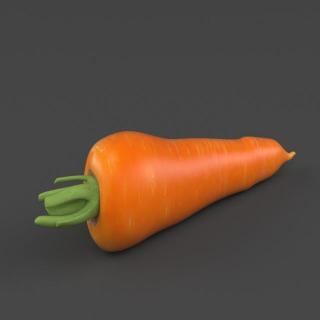carrot: (84, 118, 297, 252)
